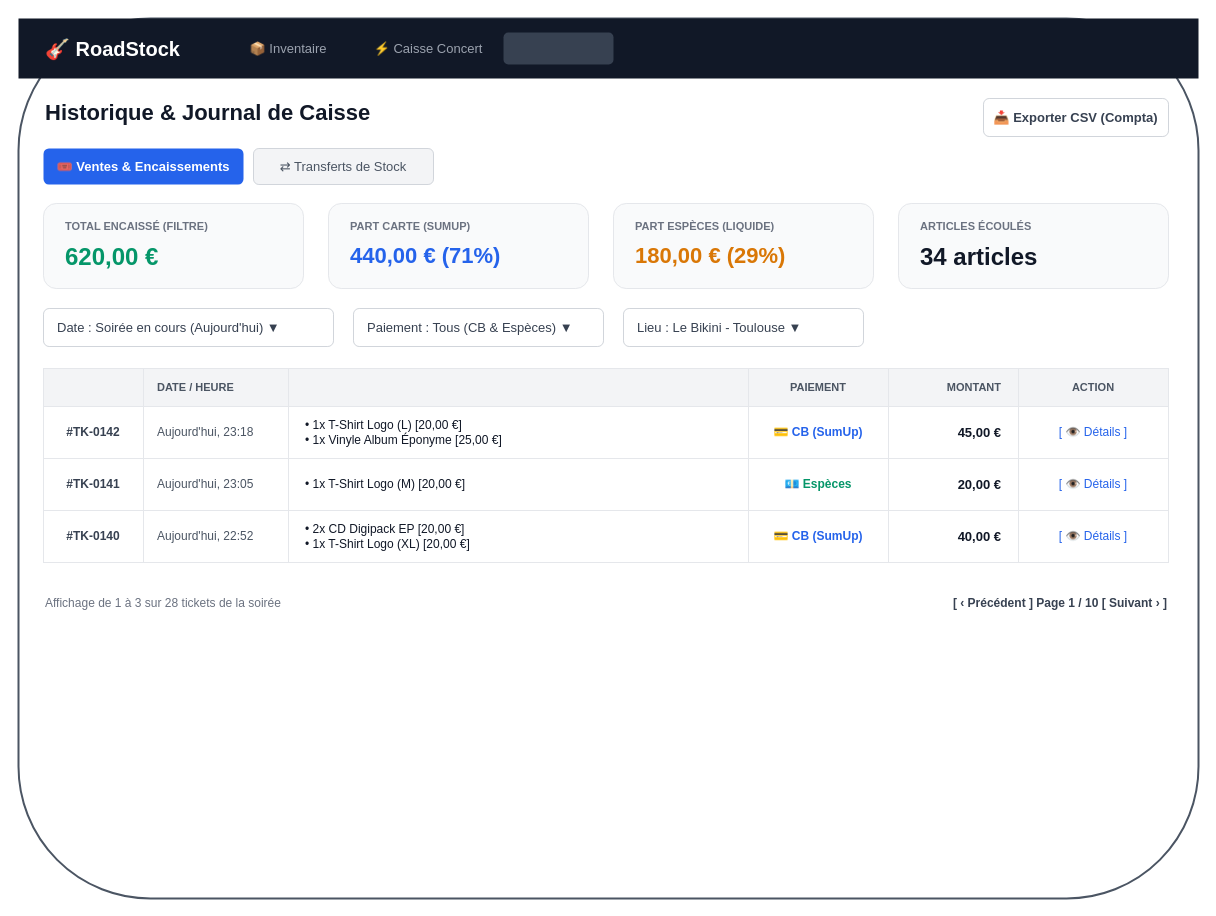
Some shapes in this 1216 by 916 pixel diagram are drawn without their labels. The shapes that lost their labels are listed below. From the top down, each one's centre as x and y in pixels, then its label:
At point (558, 48): "📊 Historique".
At point (93, 387): "N° TICKET".
At point (518, 387): "ARTICLES VENDUS (DÉTAIL)".
